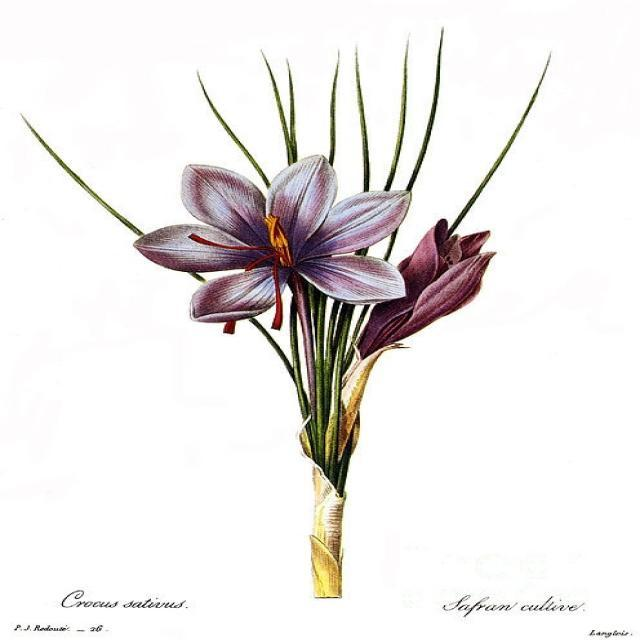Flower: (136, 152, 436, 322)
stigma: (264, 262, 289, 332), (184, 232, 262, 253)
